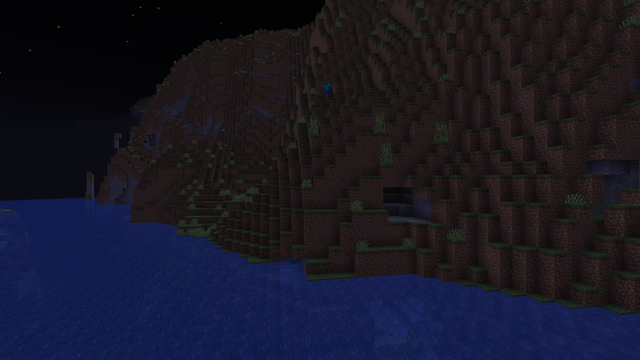zombies: (324, 80, 329, 97)
